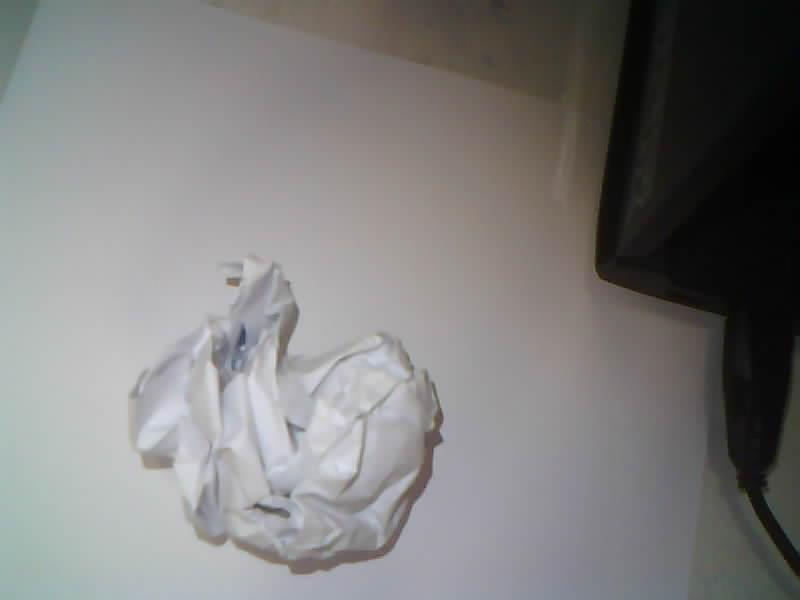biodegradable: (129, 257, 439, 561)
